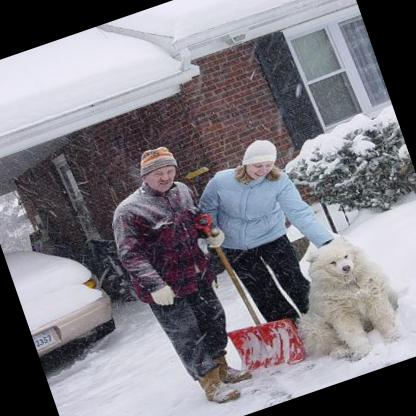Samoyed: (265, 218, 416, 378)
